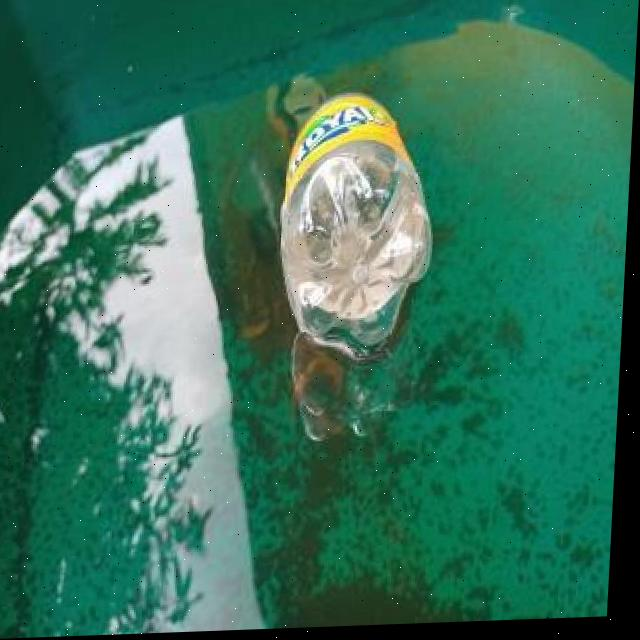bottle: (271, 84, 448, 367)
